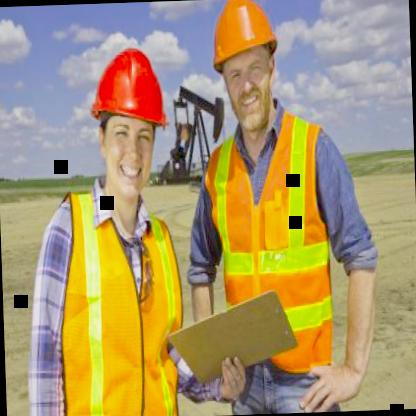helmet: (81, 26, 174, 222), (202, 0, 289, 142)
